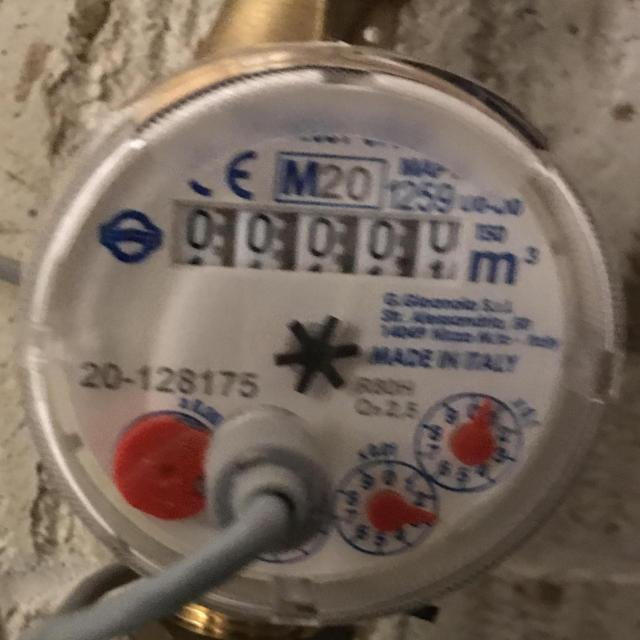gaz_meter: (31, 68, 572, 581)
indication: (168, 193, 464, 281)
